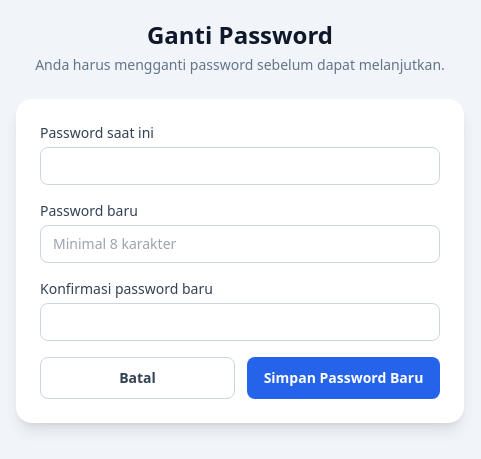
Test: ChangePasswordPage (T1.11a) › validasi client: konfirmasi tidak cocok → error inline
The width and height of the screenshot is (481, 459).
Step 1. Type "Lama123!" into the password field labelled "Password saat ini" → (240, 166), box [40,147,440,185]
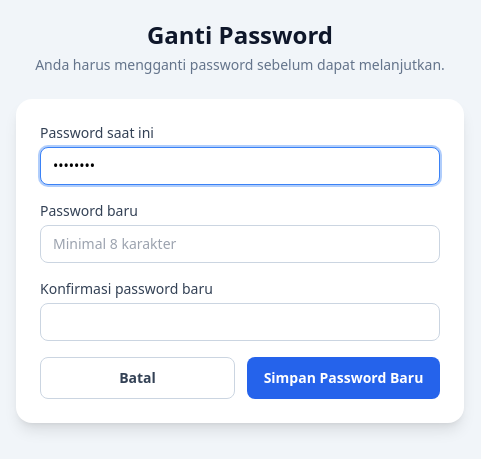
Step 2. Type "Baru123456!" into the password field labelled "Password baru" → (240, 244), box [40,225,440,263]
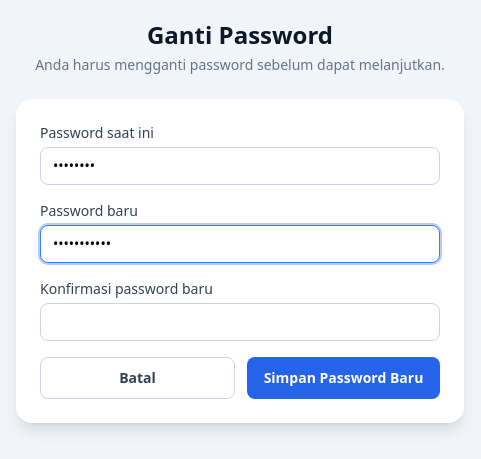
Step 3. Type "Beda123456!" into the password field labelled "Konfirmasi password baru" → (240, 322), box [40,303,440,341]
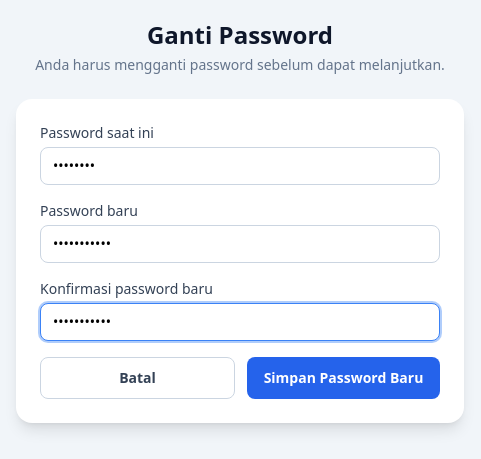
Step 4. Click the button "Simpan Password Baru" → click(344, 378), box [247,357,440,399]
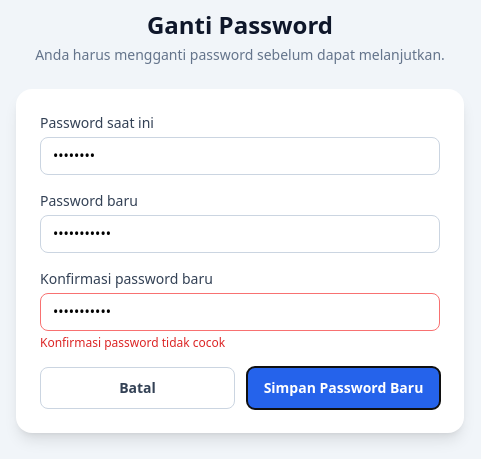
Check: the text "Konfirmasi password tidak cocok" is shown, box [40,334,225,351]
